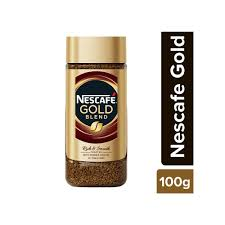nescafe-classic/gold-med: (64, 34, 128, 188)
